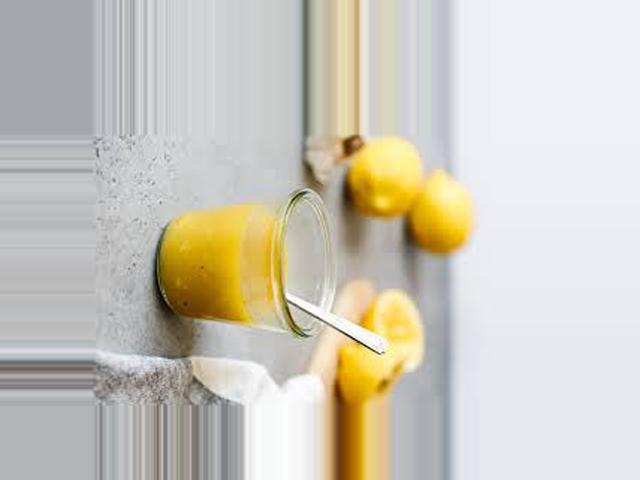lemon: (416, 158, 481, 251)
